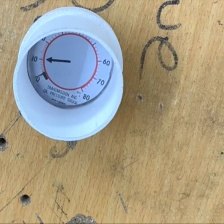gauge: (27, 32, 114, 108)
